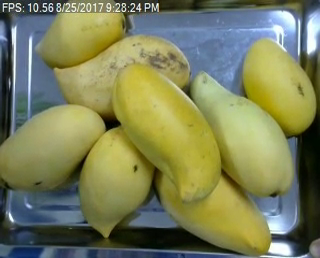Mango: (110, 62, 223, 203), (188, 69, 293, 198), (52, 34, 192, 120), (155, 154, 271, 256), (0, 103, 106, 191), (79, 123, 156, 237), (240, 36, 318, 137), (35, 0, 125, 68)
